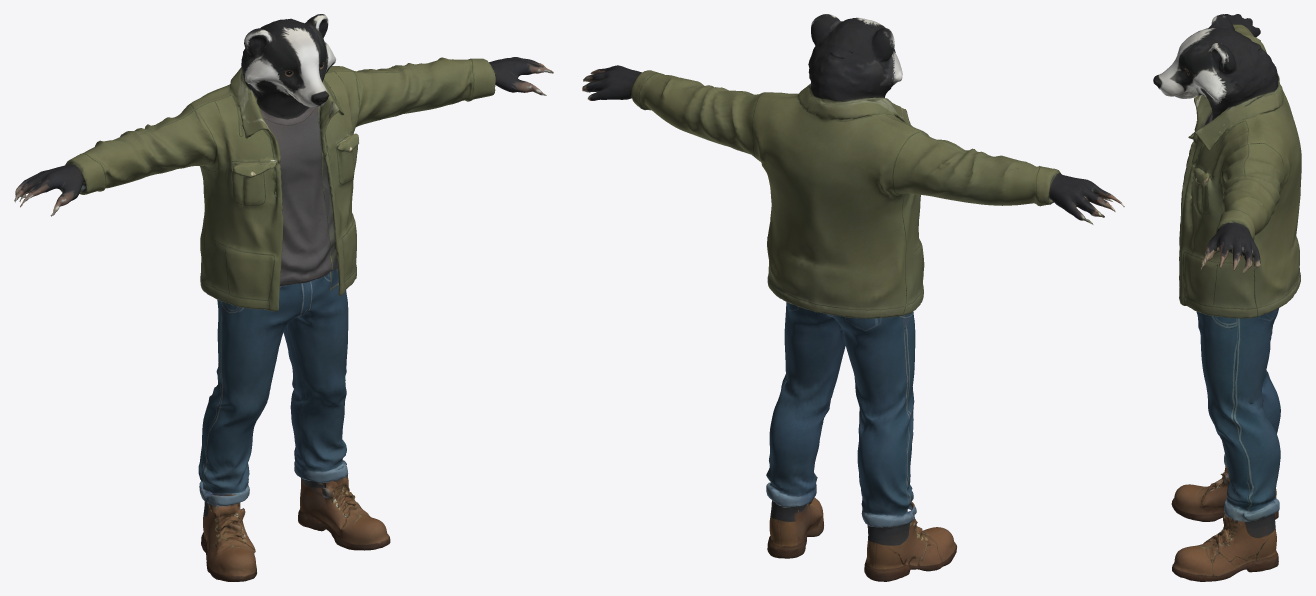
The model's file is 01_Badger.fbx.
3 views of the same model, side by side, from view 1: azimuth 30°, elevation 25°; view 2: azimuth 150°, elevation 25°; view 3: azimuth 270°, elevation 25° (orthographic). The views are drawn at different scales.
Parts seen in each view (by area): view 1: texture_mapping; view 2: texture_mapping; view 3: texture_mapping.
Part boxes in pixels (x1,y1,x2,y2): texture_mapping: [14, 14, 553, 581]; texture_mapping: [582, 14, 1124, 581]; texture_mapping: [1153, 14, 1301, 581].
Bounding box in the file's own units: 0.9943 × 0.9407 × 0.2462.
1 material, 1 textured.
